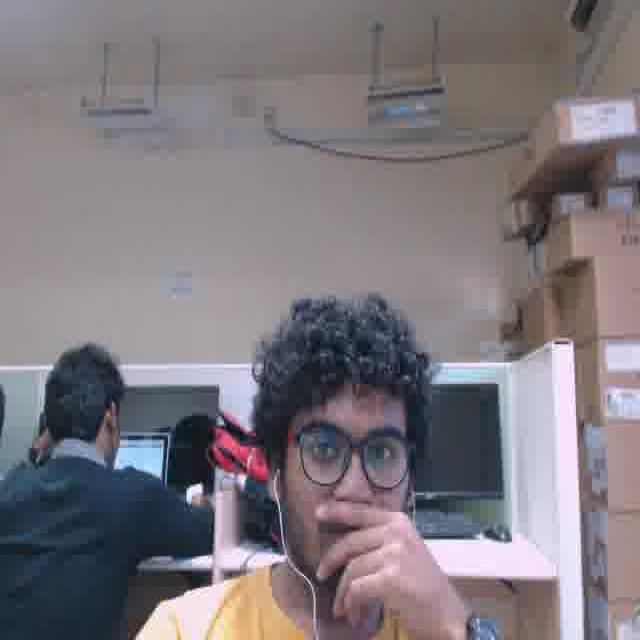Engaged: (285, 369, 406, 579)
